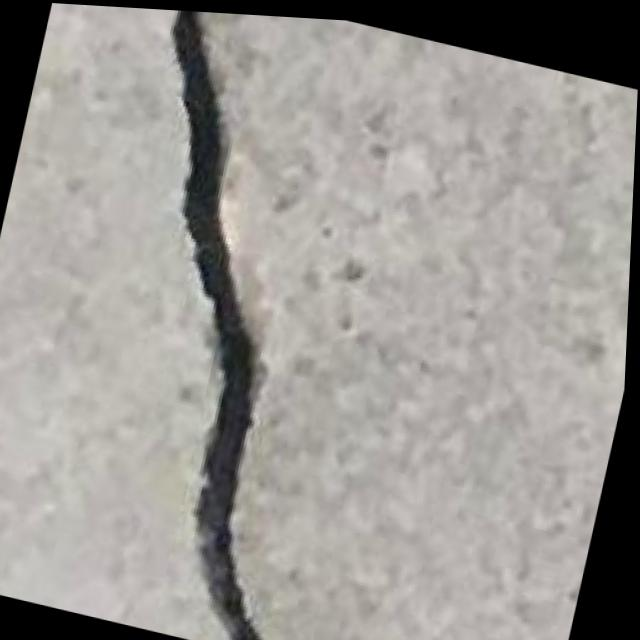Crack: (44, 3, 418, 640)
